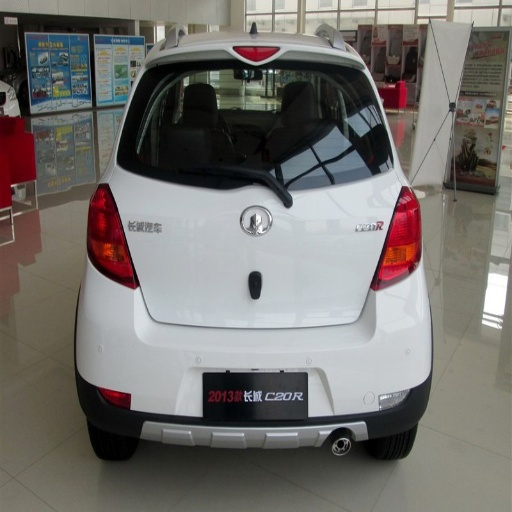back_bumper: (73, 267, 434, 441)
back_right_light: (372, 188, 421, 289)
tailgate: (111, 183, 220, 324), (301, 168, 396, 322)
trunk: (113, 167, 378, 326)
